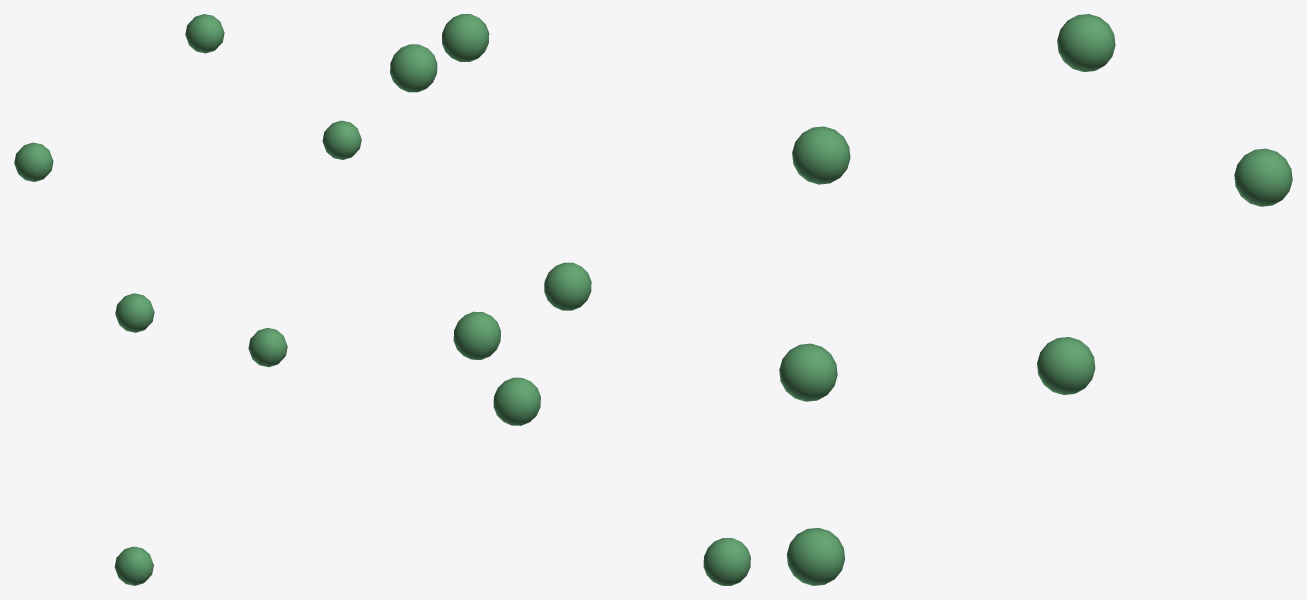
The picture shows the model from 3 angles, left to right: view 1: azimuth 30°, elevation 25°; view 2: azimuth 150°, elevation 25°; view 3: azimuth 270°, elevation 25°; orthographic projection. The views are drawn at different scales.
Visible parts, largest first — view 1: 左侧膀胱外侧淋巴结; view 2: 左侧膀胱外侧淋巴结; view 3: 左侧膀胱外侧淋巴结.
Boxes of the visible parts, x1,y1,x2,y2 form: 左侧膀胱外侧淋巴结: (14, 14, 361, 585); 左侧膀胱外侧淋巴结: (390, 14, 750, 585); 左侧膀胱外侧淋巴结: (779, 14, 1292, 585).
Size of the model in its own units: 0.0271 by 0.0493 by 0.0335.
